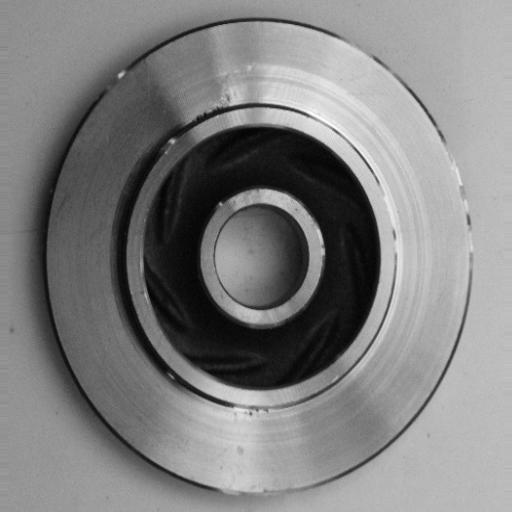crack: (173, 66, 248, 153), (220, 396, 281, 431)
scratch: (444, 144, 488, 279), (203, 475, 308, 512), (377, 174, 415, 275)
unpolished_casting: (43, 17, 477, 498)
